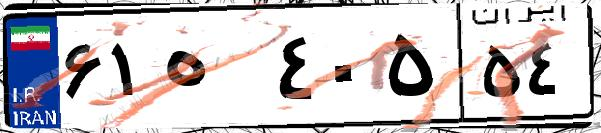0: (330, 28, 385, 110)
1: (110, 28, 158, 98)
4: (270, 28, 330, 110), (525, 38, 570, 115)
5: (385, 28, 445, 110), (475, 38, 525, 113)
6: (57, 26, 110, 100)
ه: (158, 20, 270, 120)
